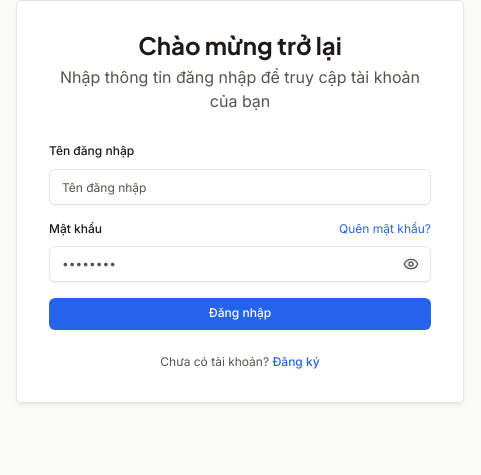
Test: LoginForm — 429 and 401 unchanged › 401: wrong credentials
In the field labelled "Tên đăng nhập": (240, 187) [49,169,431,205], type "officer1"
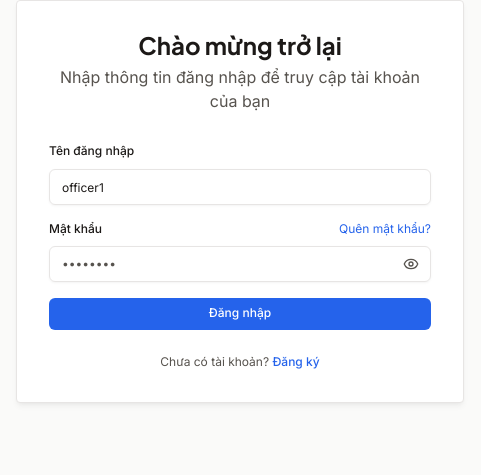
In the password field with placeholder "••••••••": (240, 264) [49,246,431,282], type "not-the-password"
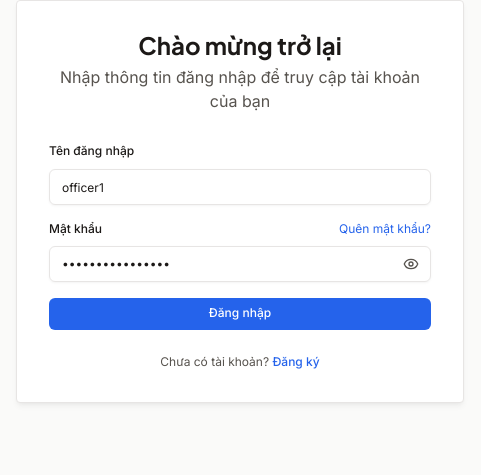
Click the button "Đăng nhập": (240, 314) [49,298,431,330]
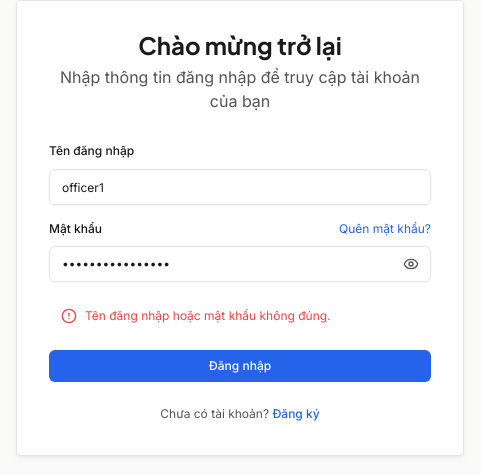
Now the message reads "Tên đăng nhập hoặc mật khẩu không đúng.", box [85,308,331,322]
